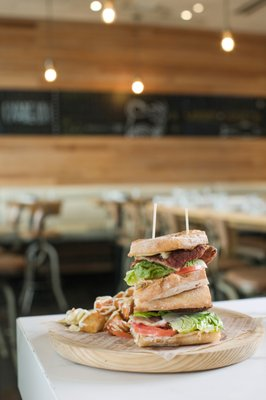soup: (125, 232, 227, 347), (128, 264, 227, 347), (124, 229, 219, 289)
